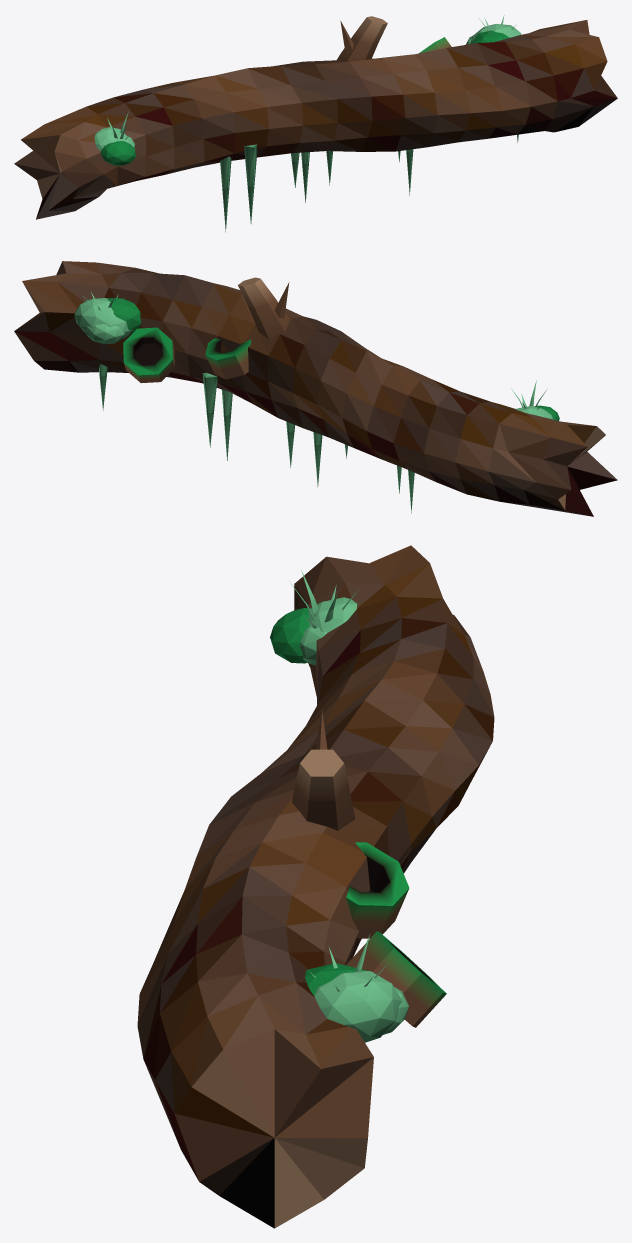
File: pohon_tumbang_bridge_rainforest_75785.glb
The picture shows the model from 3 angles, top to bottom: view 1: azimuth 30°, elevation 25°; view 2: azimuth 150°, elevation 25°; view 3: azimuth 270°, elevation 25°; orthographic projection. The views are drawn at different scales.
Parts seen in each view (by area): view 1: Batang_Melintang_Sungai; view 2: Batang_Melintang_Sungai; view 3: Batang_Melintang_Sungai.
Boxes of the visible parts, x1,y1,x2,y2 form: Batang_Melintang_Sungai: [14, 15, 617, 232]; Batang_Melintang_Sungai: [14, 261, 617, 516]; Batang_Melintang_Sungai: [137, 545, 494, 1228].
Size of the model in its own units: 8.59 by 2.82 by 2.44.
